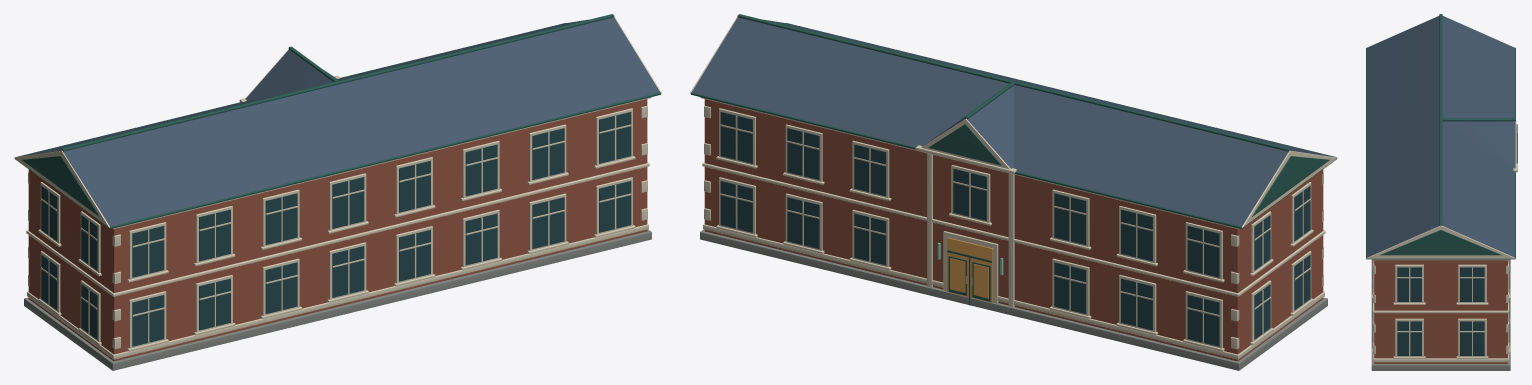
Rendered from d01_academic_buildings_02.glb.
3 views of the same model, side by side, from view 1: azimuth 30°, elevation 25°; view 2: azimuth 150°, elevation 25°; view 3: azimuth 270°, elevation 25° (orthographic). The views are drawn at different scales.
Parts seen in each view (by area): view 1: D01AcademicBuildings02_Mesh; view 2: D01AcademicBuildings02_Mesh; view 3: D01AcademicBuildings02_Mesh.
Part boxes in pixels (x1,y1,x2,y2): D01AcademicBuildings02_Mesh: (14, 14, 661, 370); D01AcademicBuildings02_Mesh: (690, 14, 1337, 370); D01AcademicBuildings02_Mesh: (1366, 14, 1517, 370).
Size of the model in its own units: 37.44 by 12.33 by 11.35.
